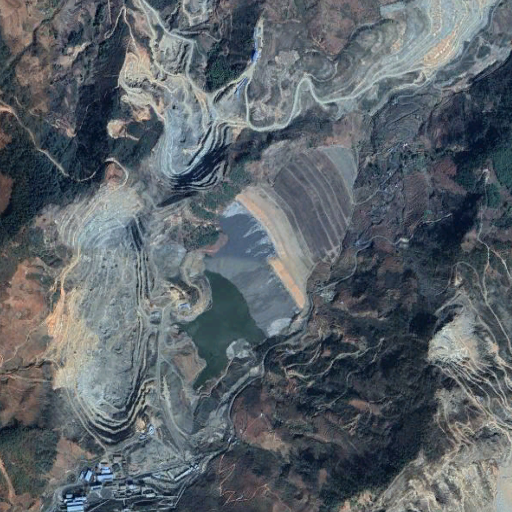tp: (178, 142, 357, 390)
